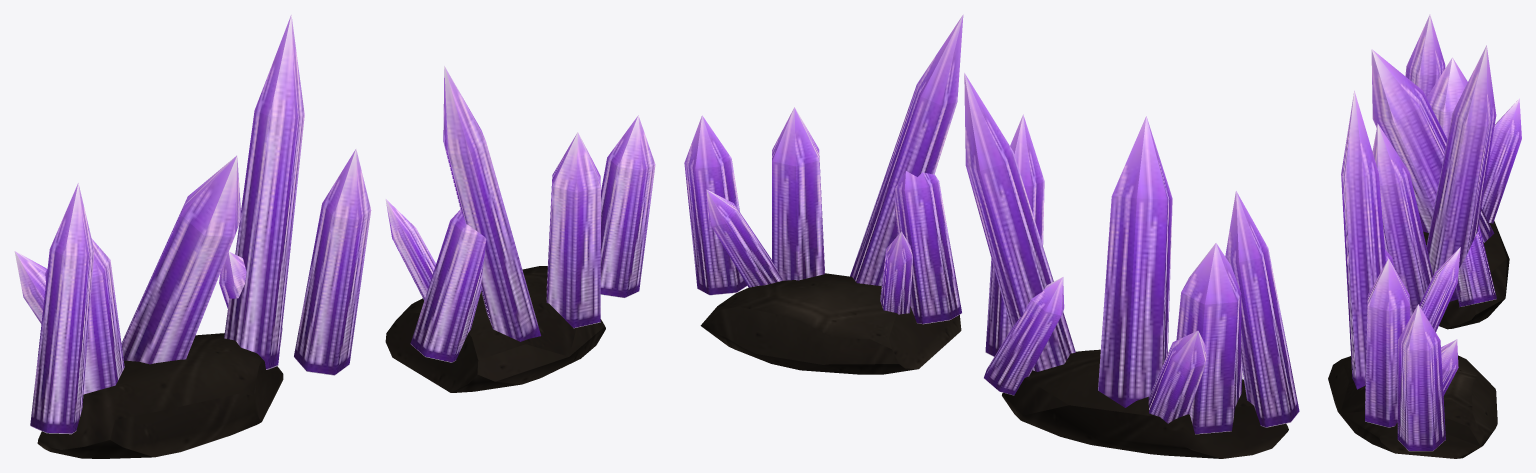
File: nidavellir_crystal_b.glb
3 views of the same model, side by side, from view 1: azimuth 30°, elevation 25°; view 2: azimuth 150°, elevation 25°; view 3: azimuth 270°, elevation 25° (orthographic). The views are drawn at different scales.
Visible parts, largest first — view 1: nidavellir_crystal_b; view 2: nidavellir_crystal_b; view 3: nidavellir_crystal_b.
Boxes of the visible parts, x1=… form: nidavellir_crystal_b: x1=14, y1=14, x2=655, y2=458; nidavellir_crystal_b: x1=684, y1=14, x2=1299, y2=458; nidavellir_crystal_b: x1=1328, y1=14, x2=1521, y2=458.
Bounding box in the file's own units: 1.72 × 0.9087 × 0.5365.
2 materials, 2 textured.
